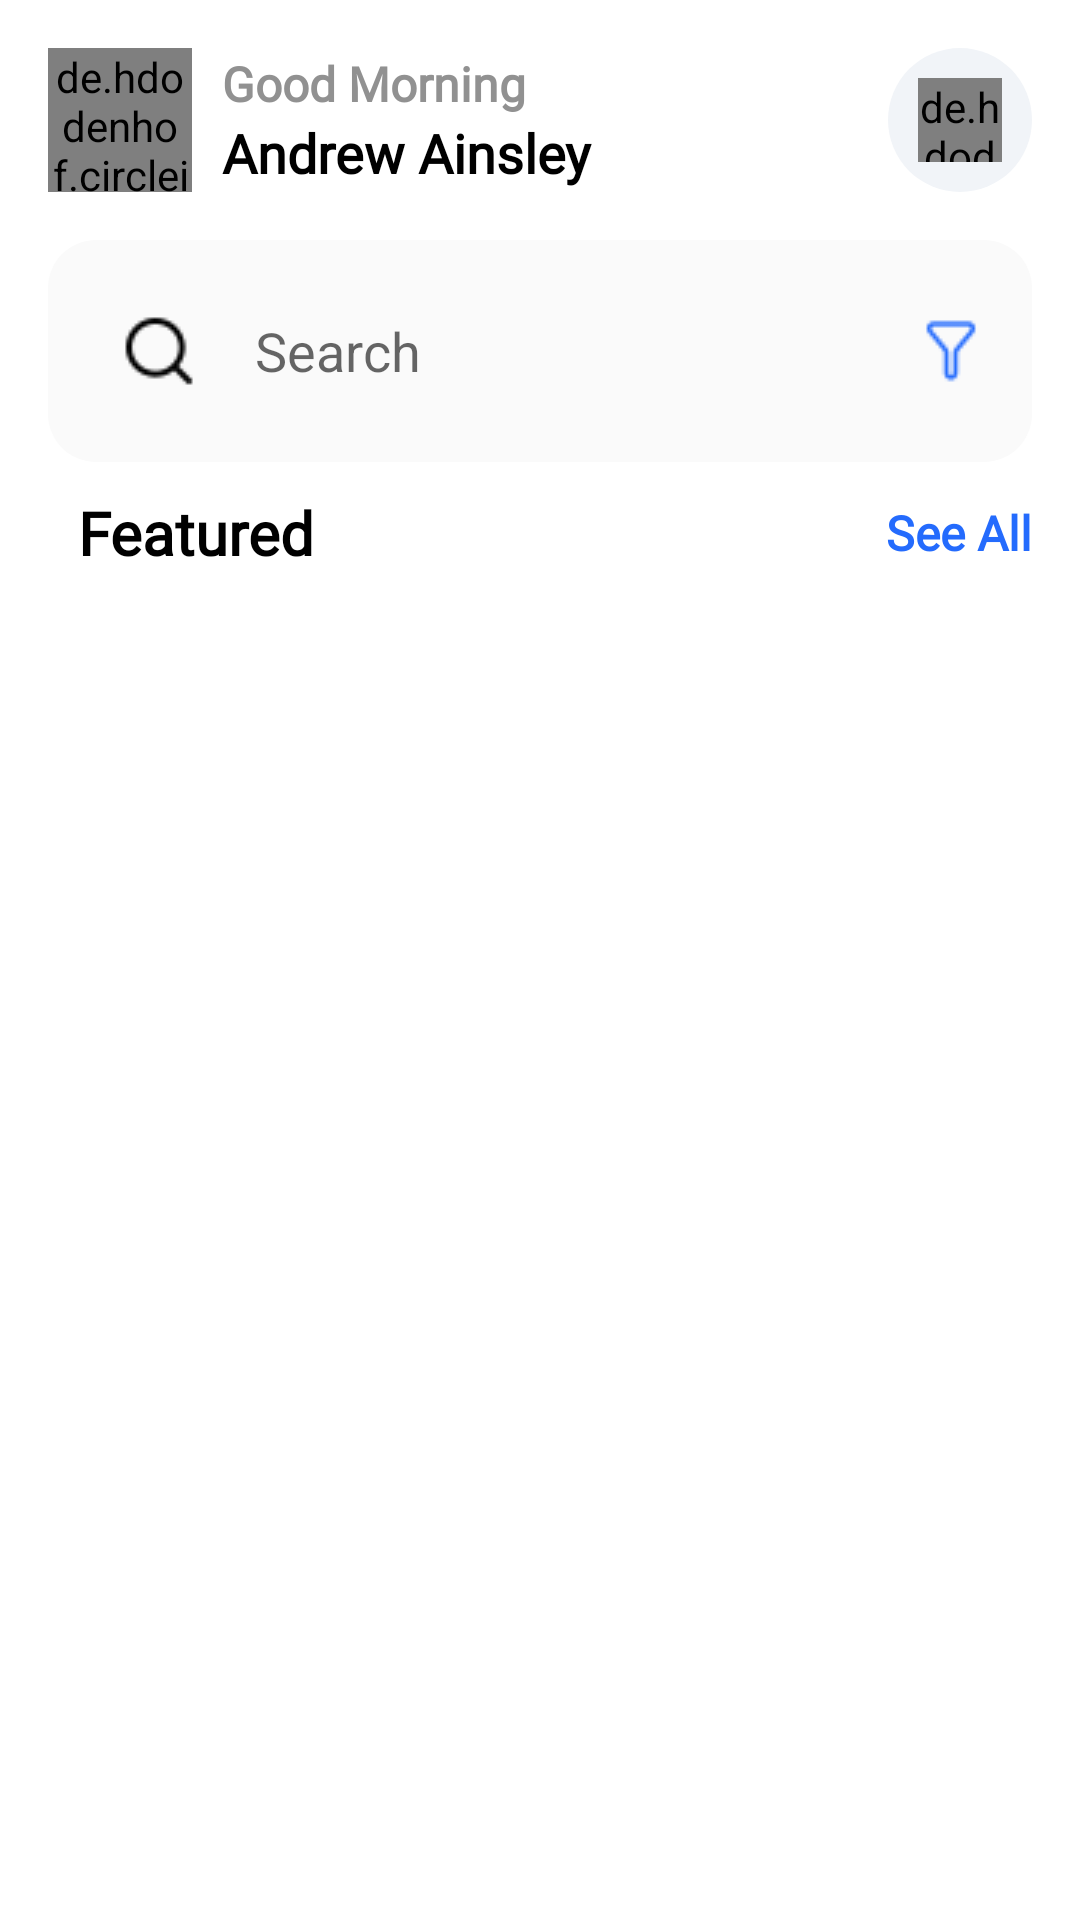

Screen size 1080px×1920px. Icon name, then its center in pixels as point (x, y):
Filter Icon: point (951, 351)
